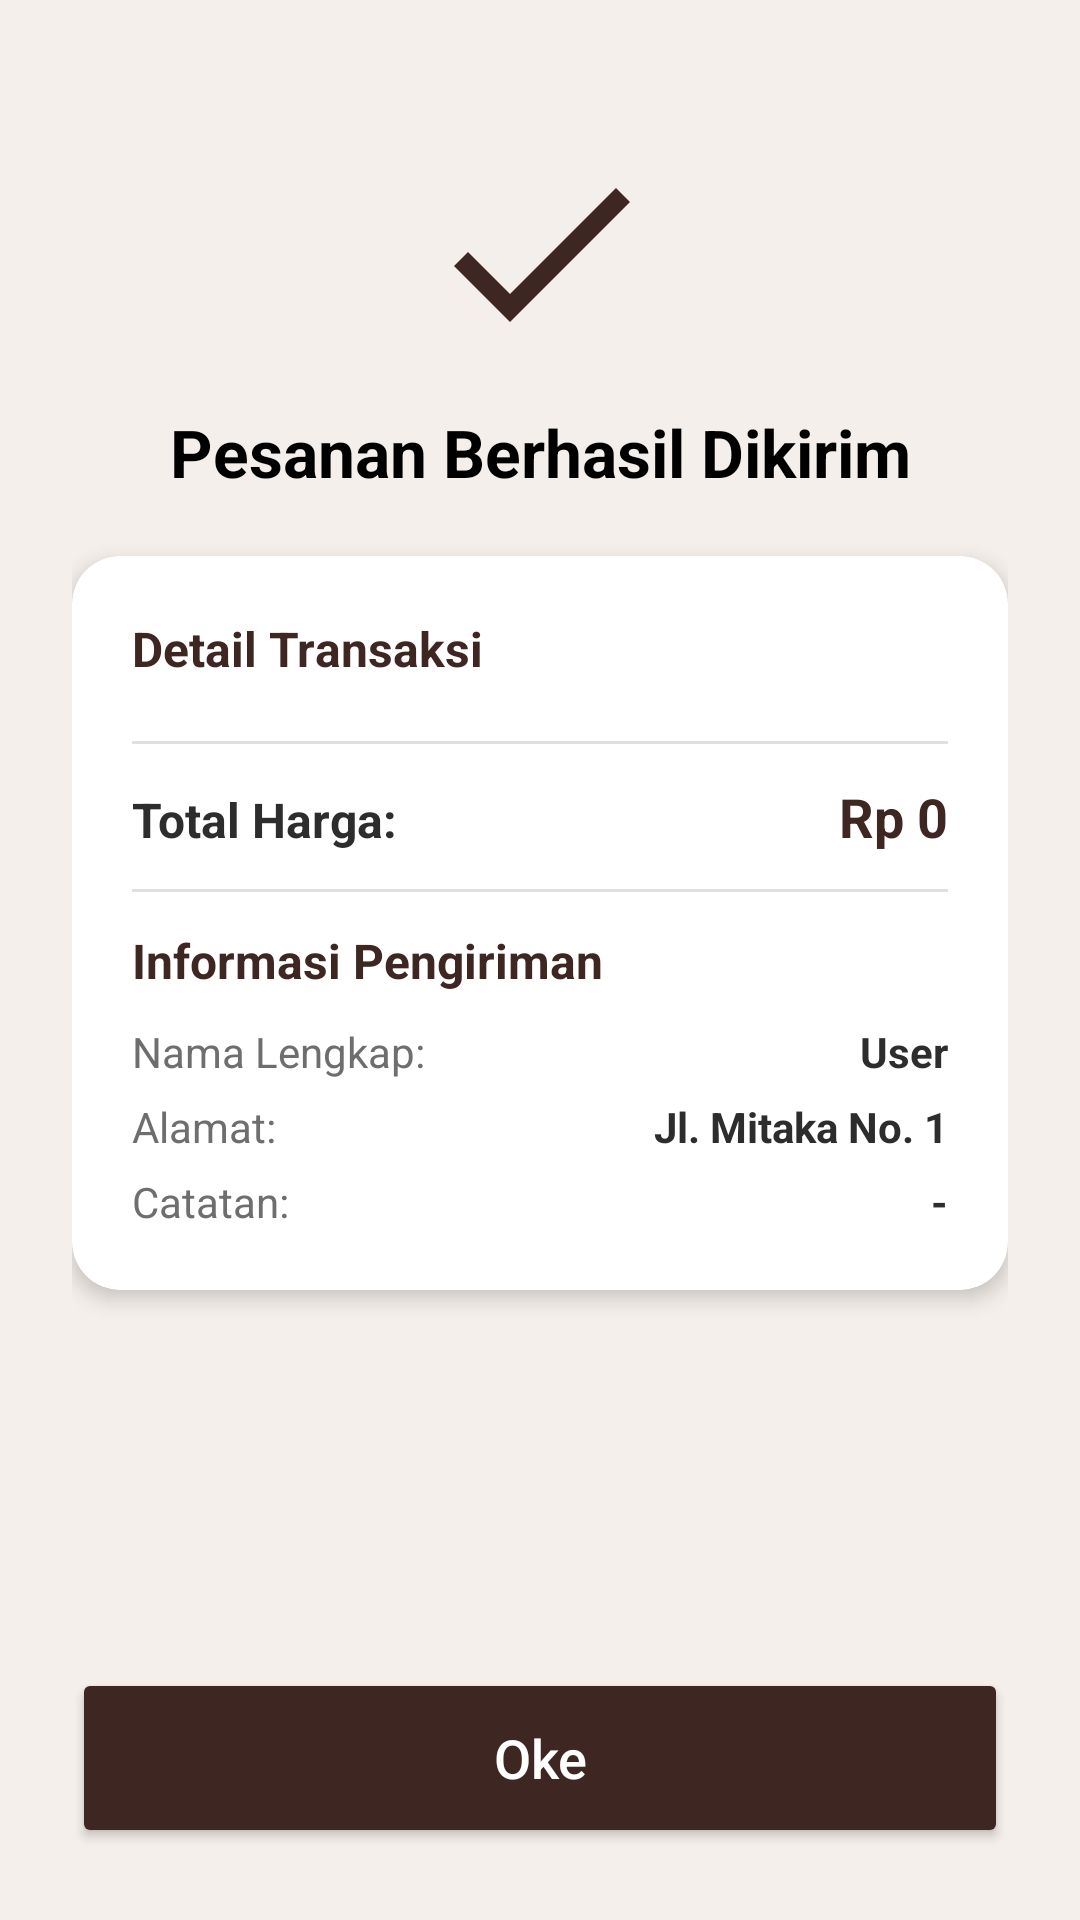

Screen size 1080x1920. Icon name, then its box in pixels as region(x1, y1, x2, y2):
Checkmark: region(454, 188, 630, 322)
